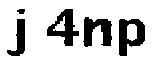4: (44, 9, 80, 48)
j: (4, 4, 33, 60)
n: (80, 13, 114, 51)
p: (116, 15, 149, 60)
